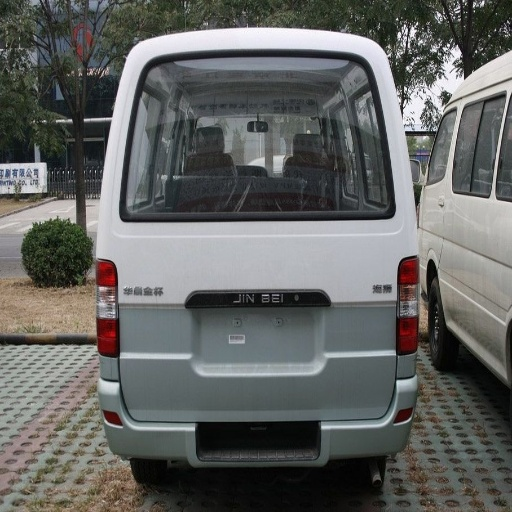back_bumper: (98, 355, 415, 467)
back_glass: (125, 78, 365, 218)
back_left_light: (94, 260, 117, 357)
